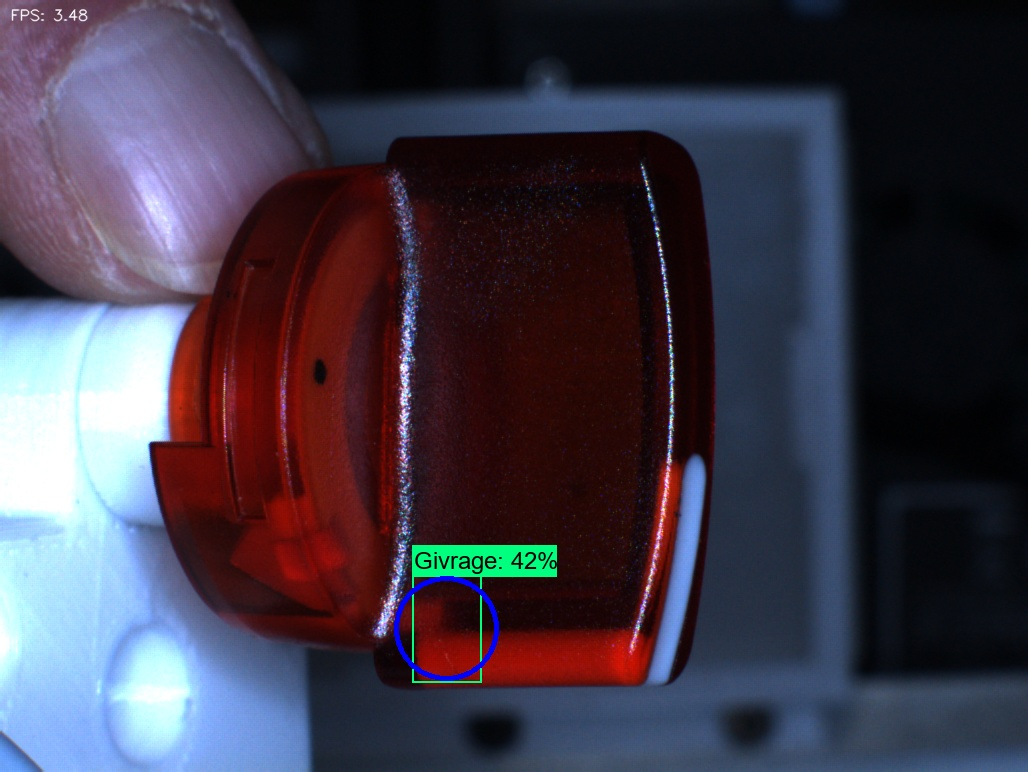PointNoir: (285, 322, 367, 429)
